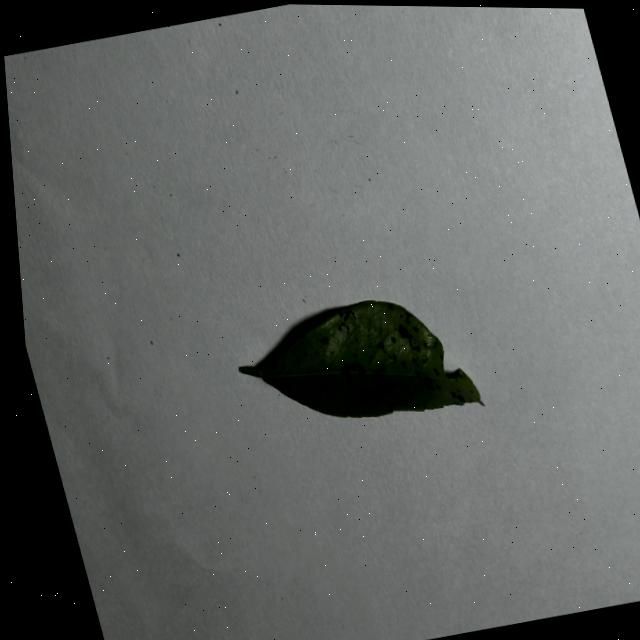sooty_mold: (239, 301, 481, 418)
